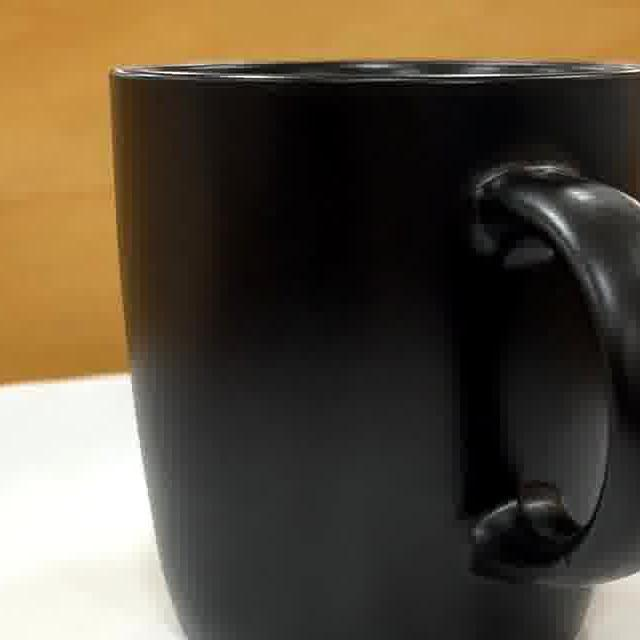cup: (118, 62, 640, 640)
